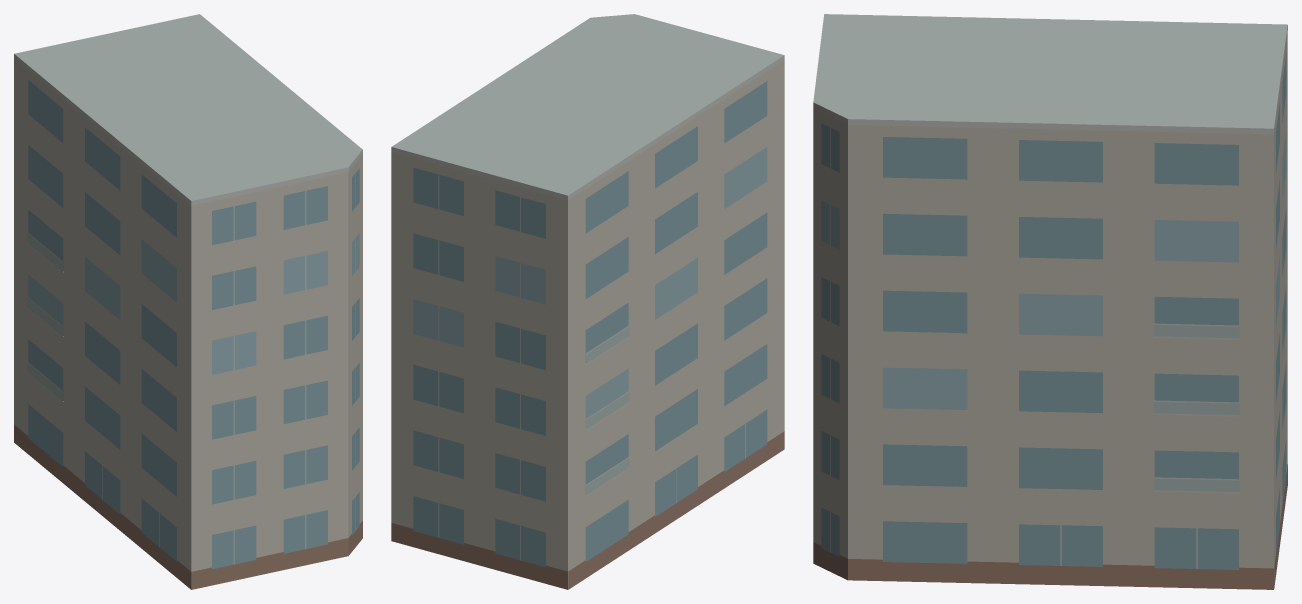
Rendered from survey-upis-32983318.glb.
3 renders of one model, left to right at view 1: azimuth 30°, elevation 25°; view 2: azimuth 150°, elevation 25°; view 3: azimuth 270°, elevation 25°, orthographic. The views are drawn at different scales.
Parts seen in each view (by area): view 1: survey-upis-32983318.tmp; view 2: survey-upis-32983318.tmp; view 3: survey-upis-32983318.tmp.
Part boxes in pixels (bbox=[...]): survey-upis-32983318.tmp: bbox=[14, 14, 362, 589]; survey-upis-32983318.tmp: bbox=[391, 14, 784, 589]; survey-upis-32983318.tmp: bbox=[813, 14, 1287, 589].
Bounding box in the file's own units: 10.35 × 19.4 × 18.1.
